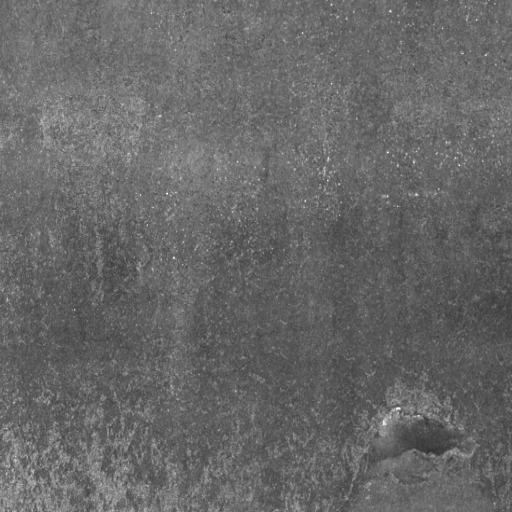qiaopi: (363, 401, 462, 464)
